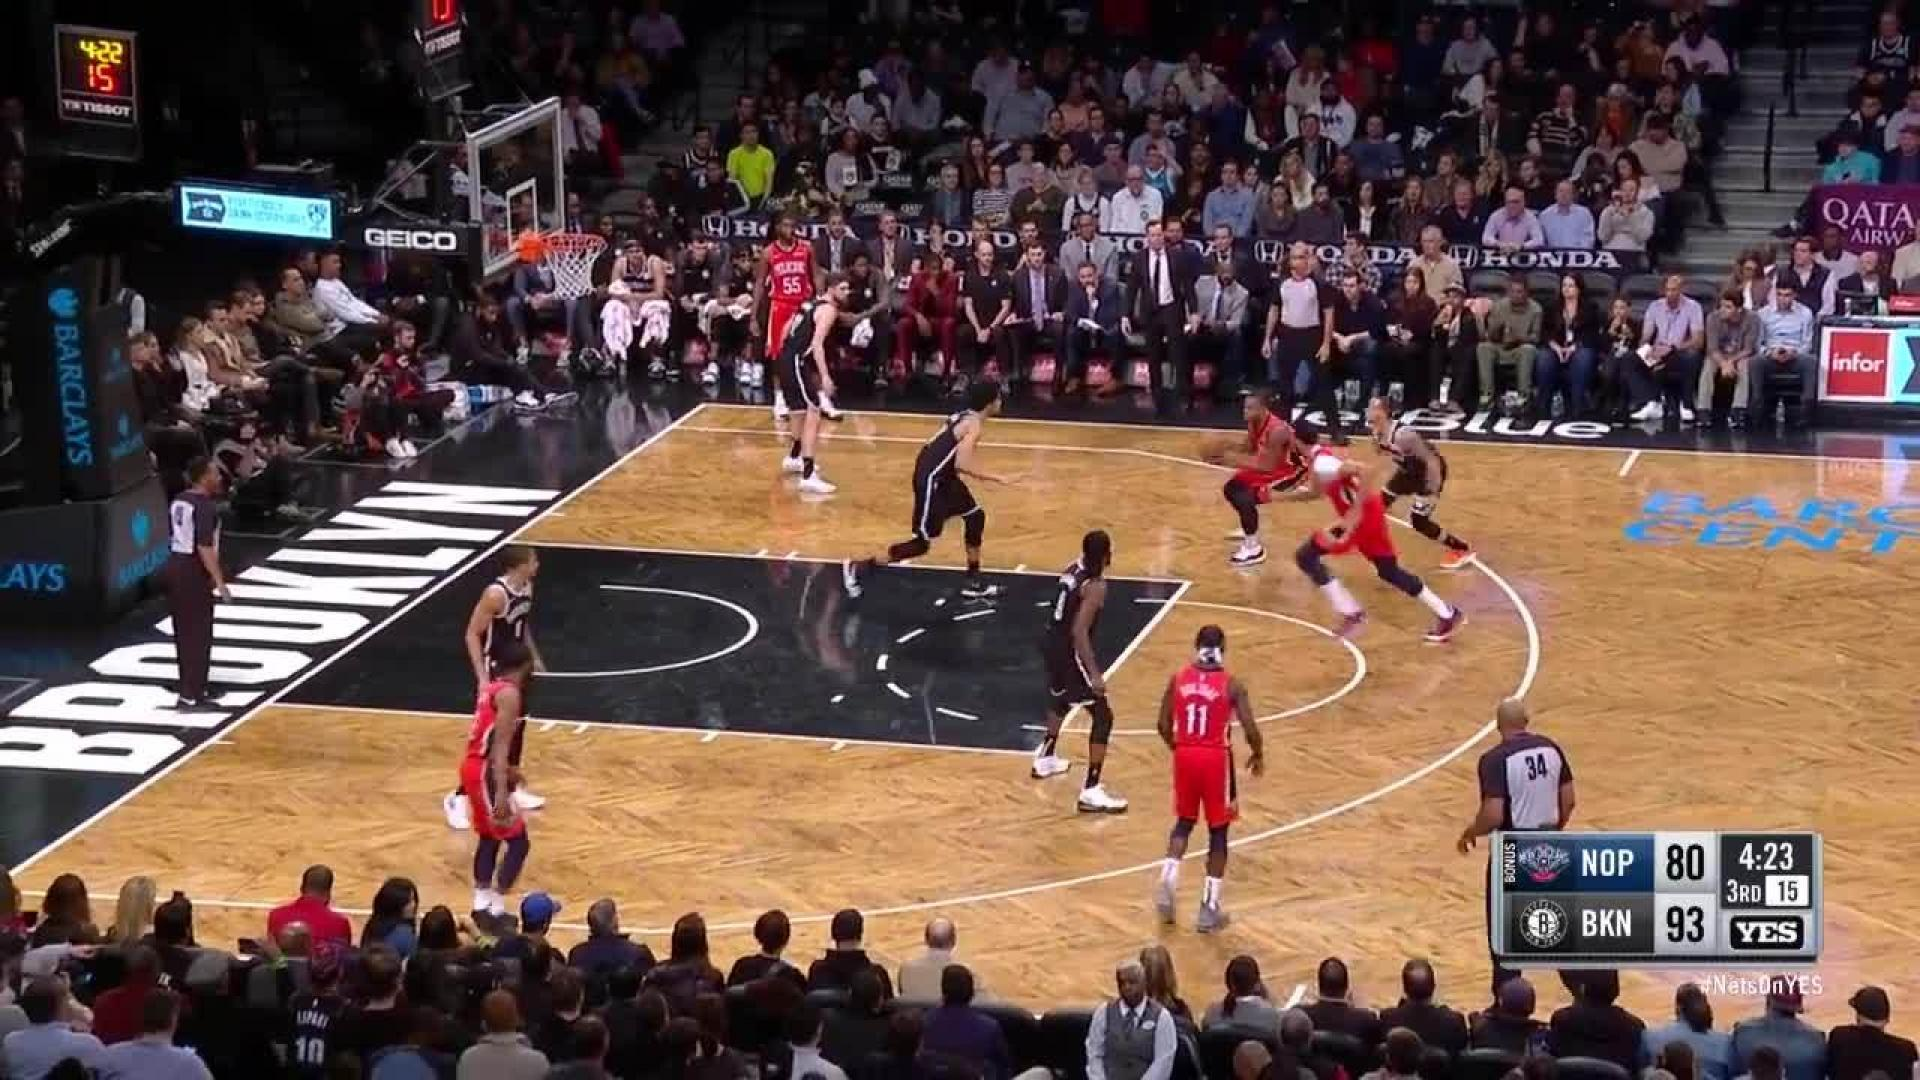Geico: (353, 222, 458, 255)
